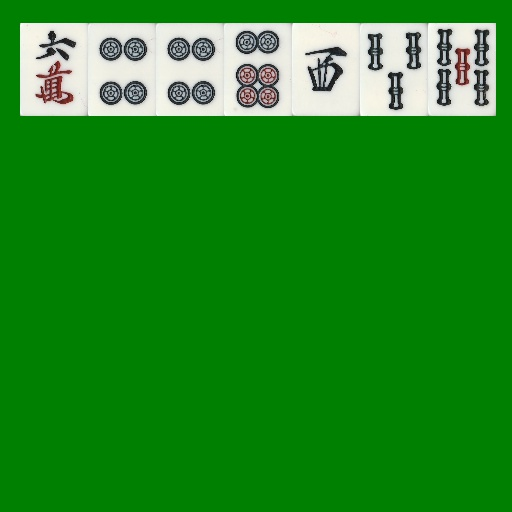3s: (360, 23, 428, 116)
4p: (88, 23, 156, 116), (156, 23, 224, 116)
5s: (428, 23, 496, 116)
6m: (20, 23, 88, 116)
6p: (224, 23, 292, 116)
west: (292, 23, 360, 116)
